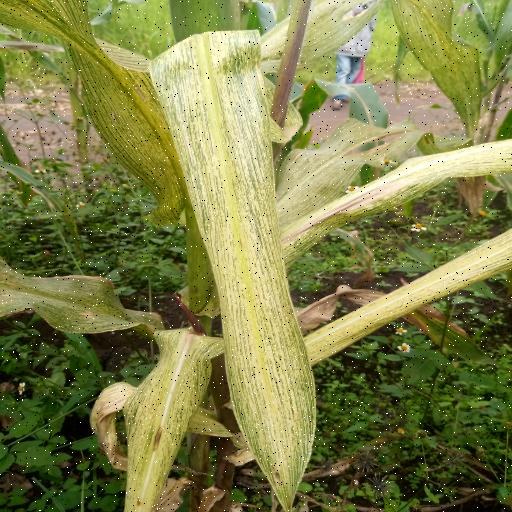Corn_Streak: (155, 36, 339, 503), (123, 321, 210, 512), (0, 261, 171, 330)
